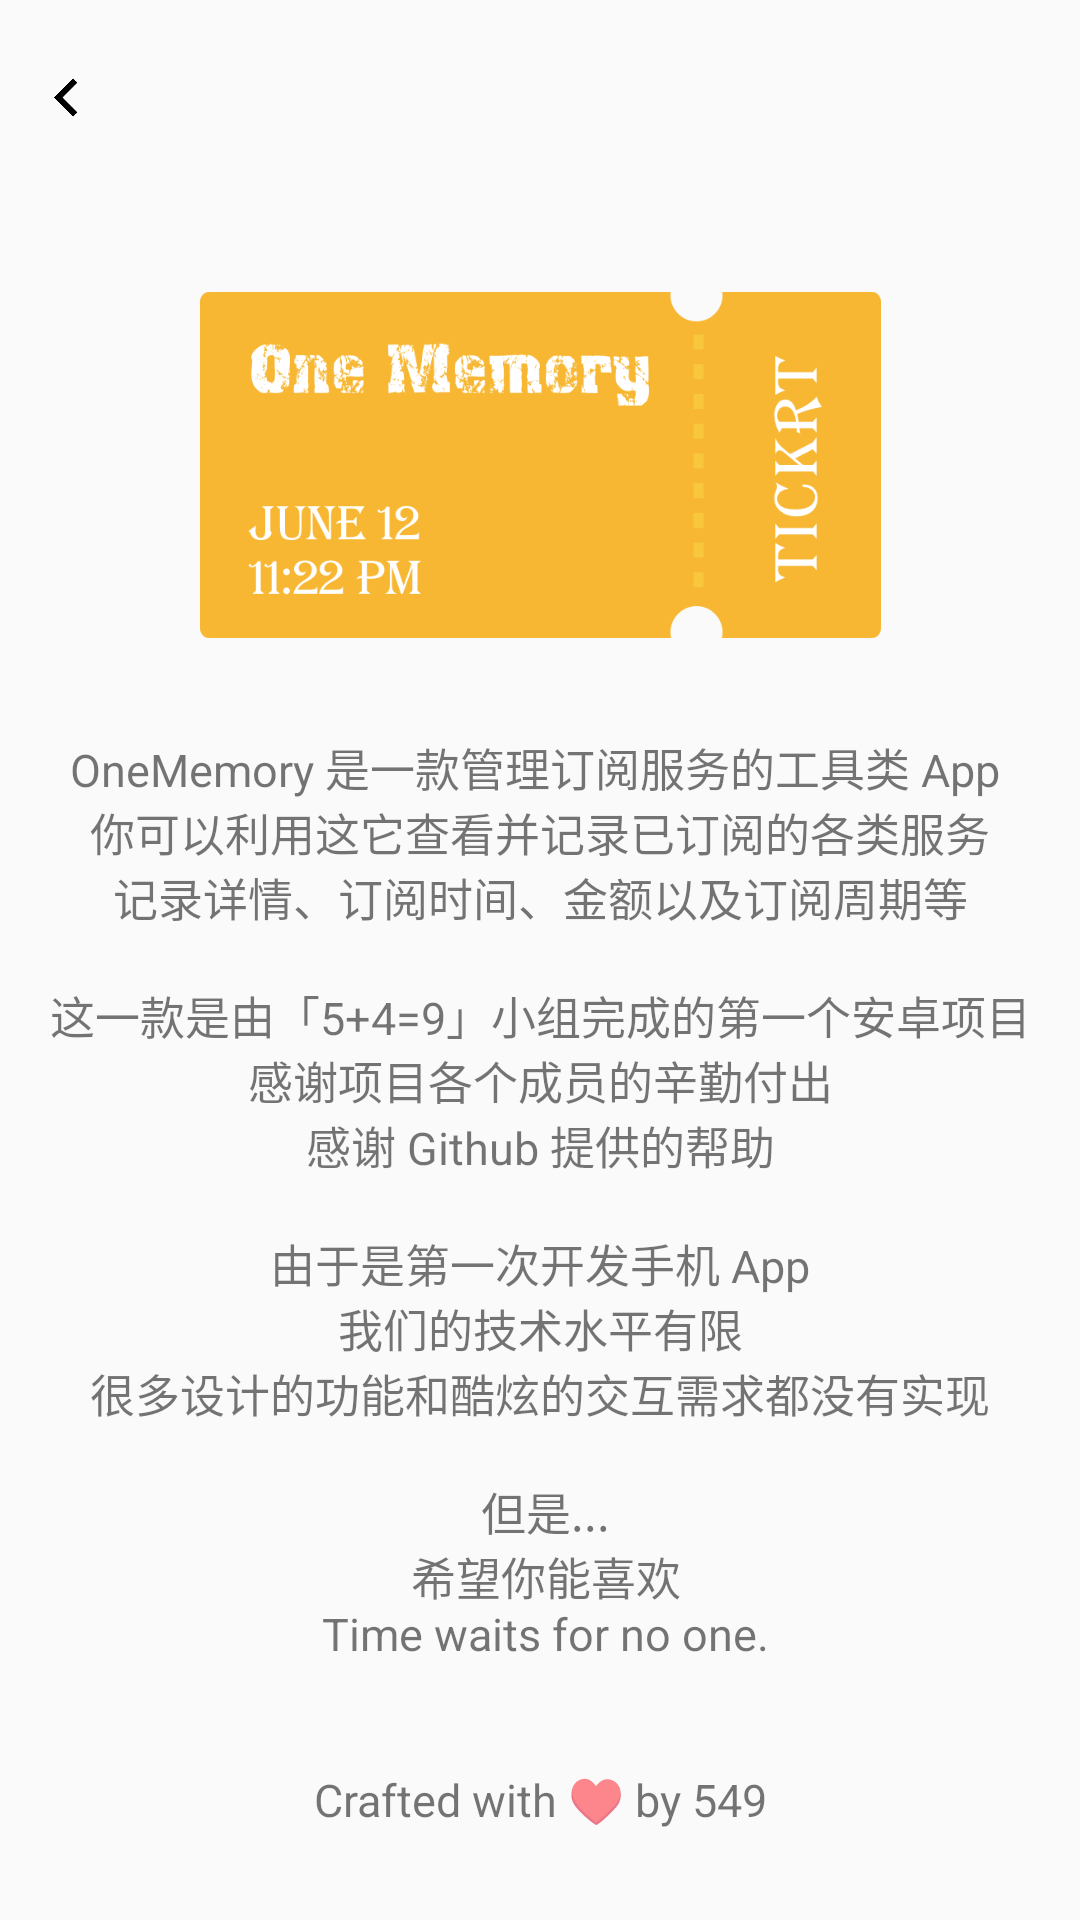

Icon bounding boxes for this 1080×1920 phone screenshot, format {"x1": x1, "y1": y1, "x2": x2, "y2": y2}:
back arrow: {"x1": 54, "y1": 78, "x2": 77, "y2": 117}
